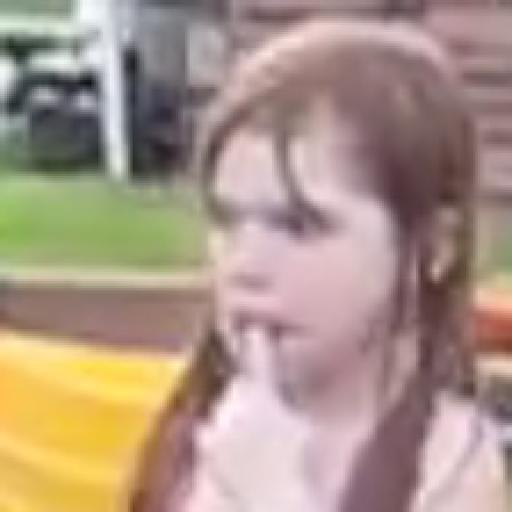Autism: (167, 30, 492, 448)
